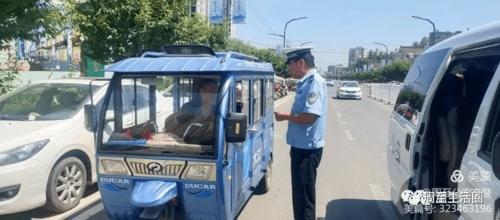driver: (174, 65, 254, 176)
only_driver: (90, 17, 285, 220)
